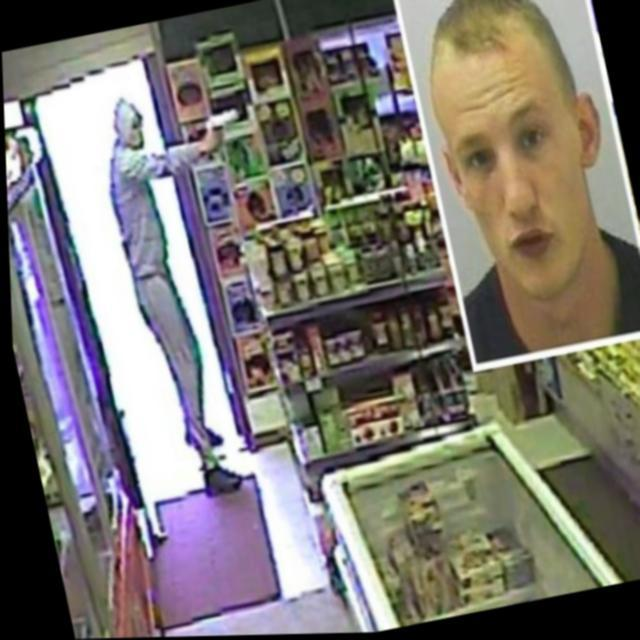weapon: (196, 108, 252, 144)
